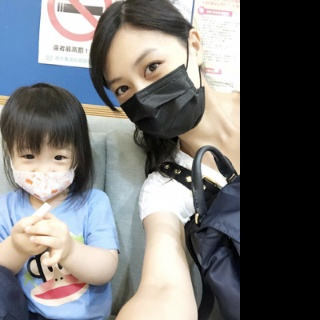with_mask: (106, 44, 206, 137), (10, 140, 77, 203)
